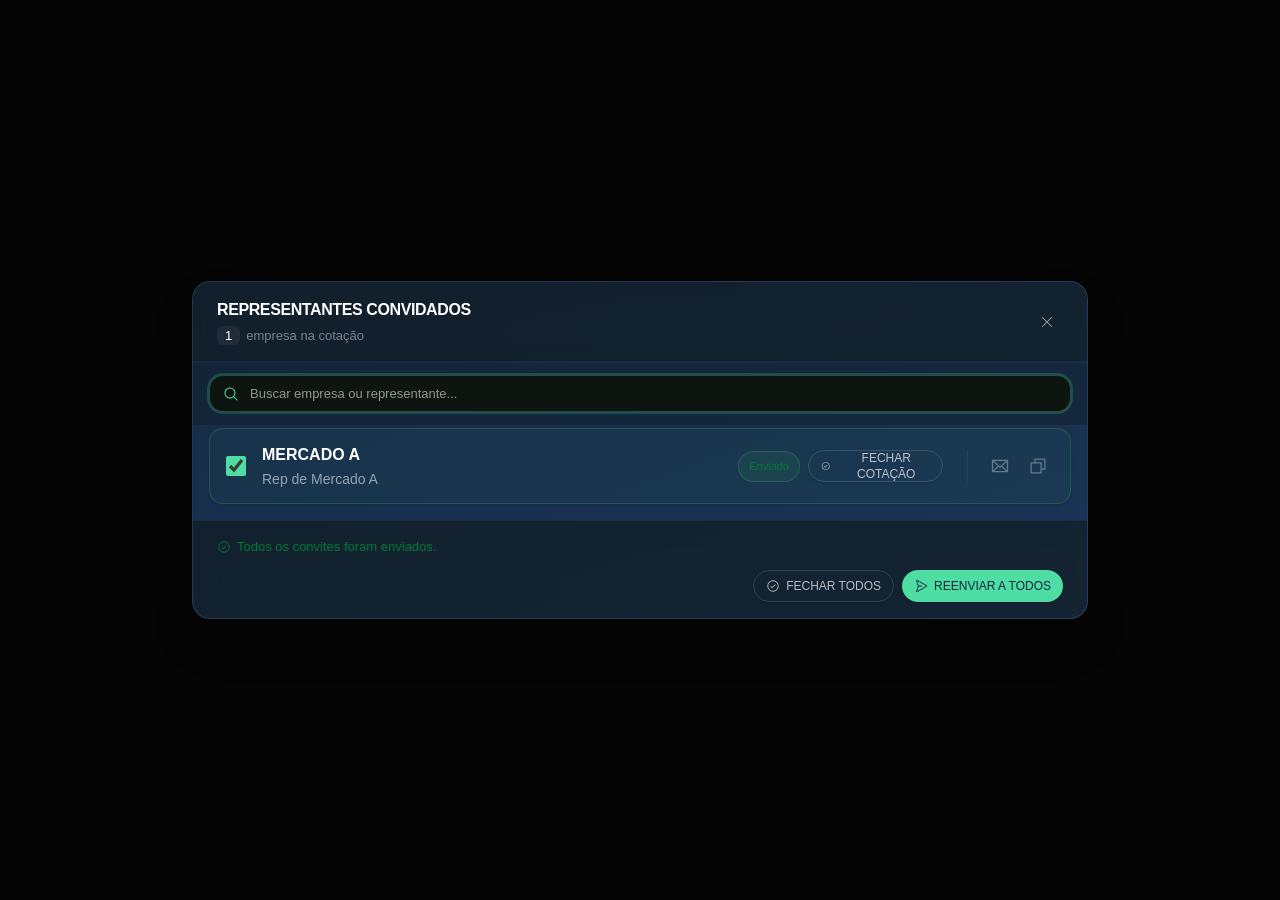
Test case: CONVIDADO com convite enviado mostra "Fechar cotação" e, ao acionar, a linha passa a Finalizado
Expected: the text "Enviado" is shown, [738,451,800,482]
Expected: the button "Reabrir" is not shown
Click the button "Fechar cotação" at (876, 466), box [808,450,943,482]
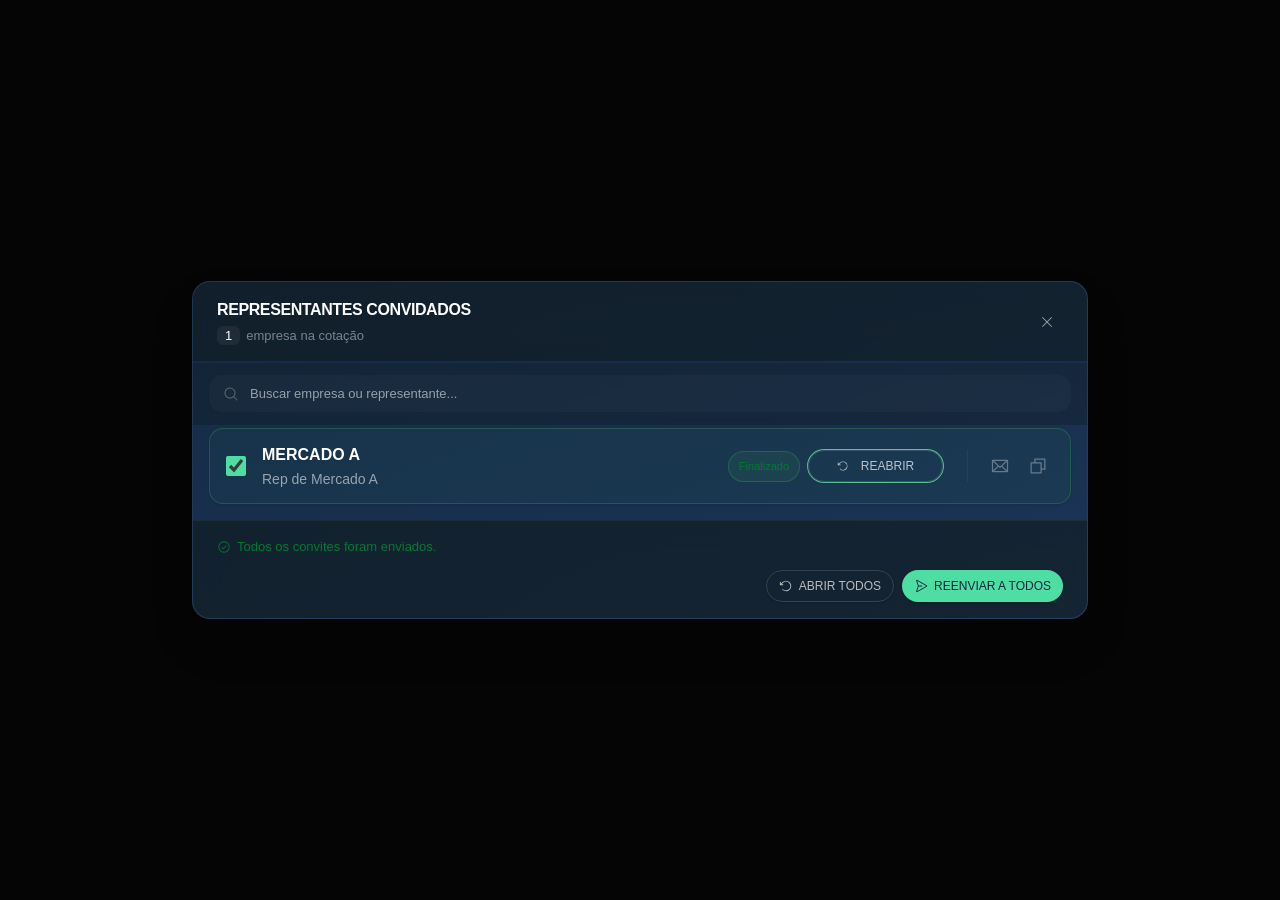
Expected: the text "Finalizado" is shown, [728,451,800,482]
Expected: the button "Reabrir" is shown, [808,450,943,482]
Expected: the button "Fechar cotação" is gone
